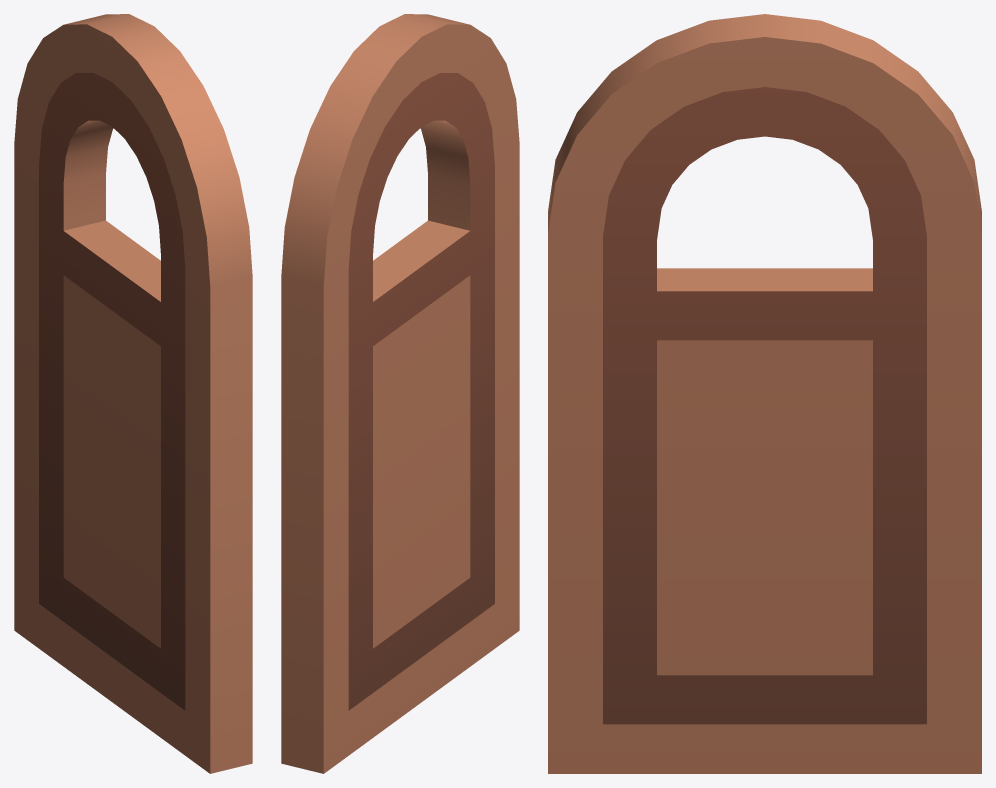
Rendered from door_lev1.glb.
3 renders of one model, left to right at view 1: azimuth 30°, elevation 25°; view 2: azimuth 150°, elevation 25°; view 3: azimuth 270°, elevation 25°, orthographic. The views are drawn at different scales.
Parts seen in each view (by area): view 1: door_lev1; view 2: door_lev1; view 3: door_lev1.
Boxes of the visible parts, x1,y1,x2,y2 form: door_lev1: (14, 14, 252, 773); door_lev1: (281, 14, 519, 773); door_lev1: (548, 14, 981, 773).
Bounding box in the file's own units: 0.2116 × 3.17 × 1.69.
1 material, 1 textured.
